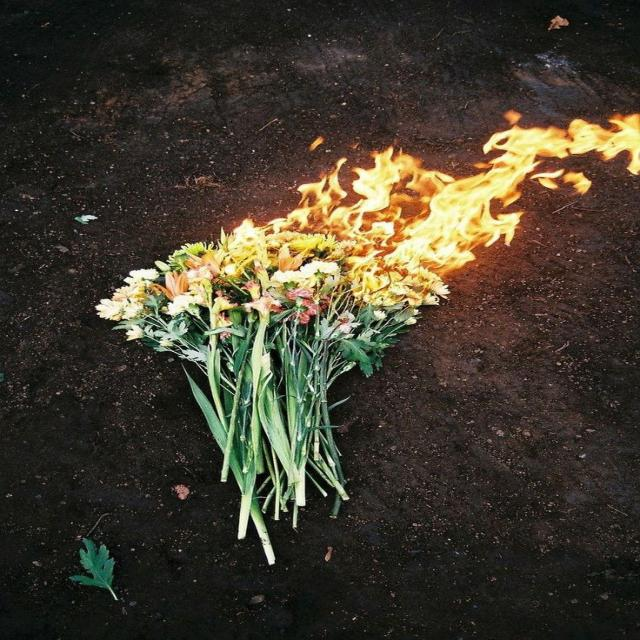fire: (287, 112, 640, 272)
